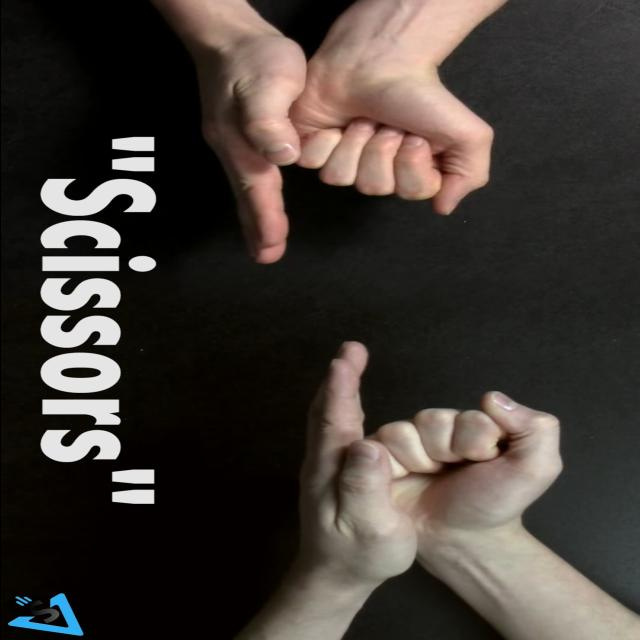Rock: (372, 394, 560, 556), (290, 68, 497, 215)
